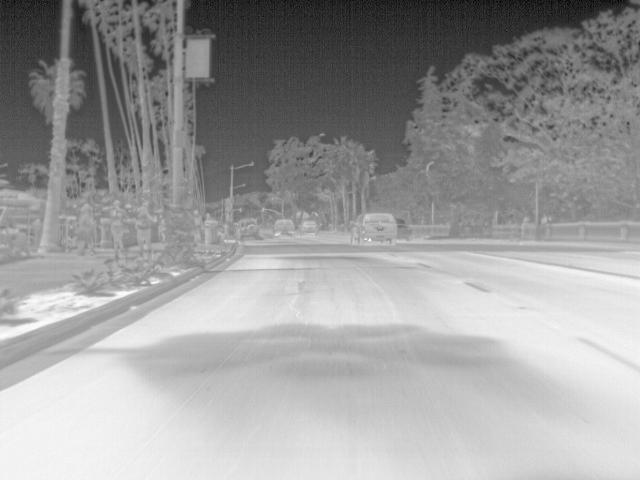car: (353, 213, 398, 244), (239, 218, 261, 240), (272, 216, 296, 236), (394, 219, 415, 240), (299, 220, 321, 234)
person: (106, 199, 130, 256), (75, 202, 97, 257), (137, 201, 159, 252), (191, 208, 205, 244)
